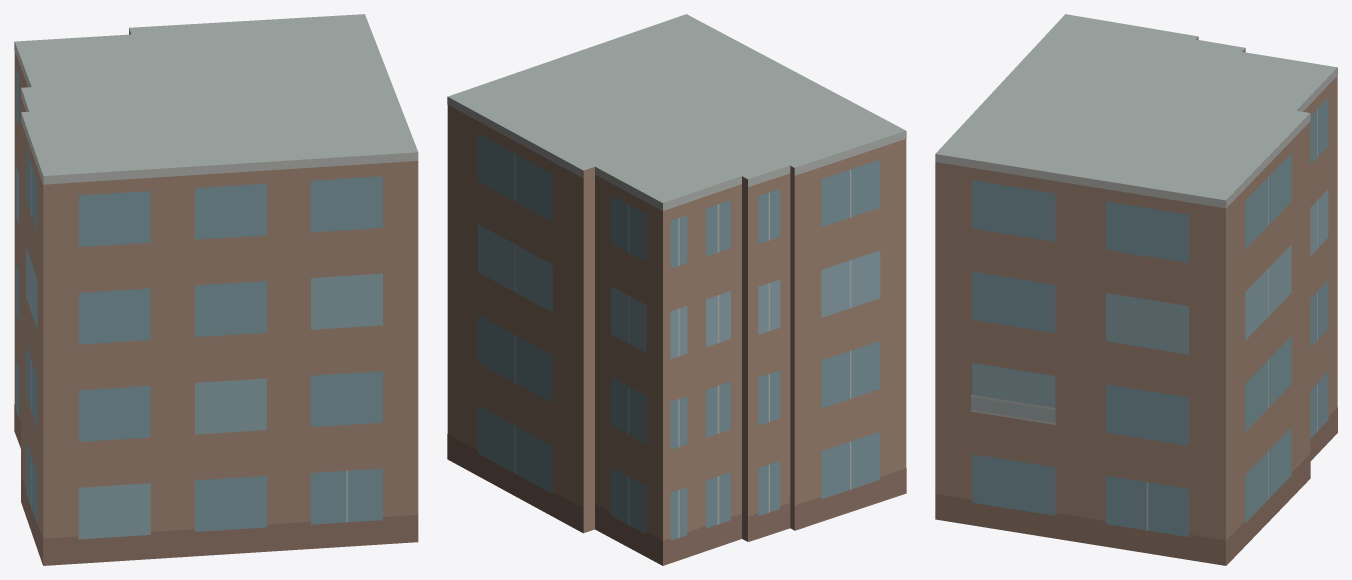
File: survey-upis-32649175.glb
The picture shows the model from 3 angles, left to right: view 1: azimuth 30°, elevation 25°; view 2: azimuth 150°, elevation 25°; view 3: azimuth 270°, elevation 25°; orthographic projection. The views are drawn at different scales.
Visible parts, largest first — view 1: survey-upis-32649175.tmp; view 2: survey-upis-32649175.tmp; view 3: survey-upis-32649175.tmp.
Part boxes in pixels (bbox=[...]): survey-upis-32649175.tmp: bbox=[14, 14, 418, 565]; survey-upis-32649175.tmp: bbox=[447, 14, 906, 565]; survey-upis-32649175.tmp: bbox=[935, 14, 1337, 565].
Bounding box in the file's own units: 12.26 × 11.2 × 11.19.
